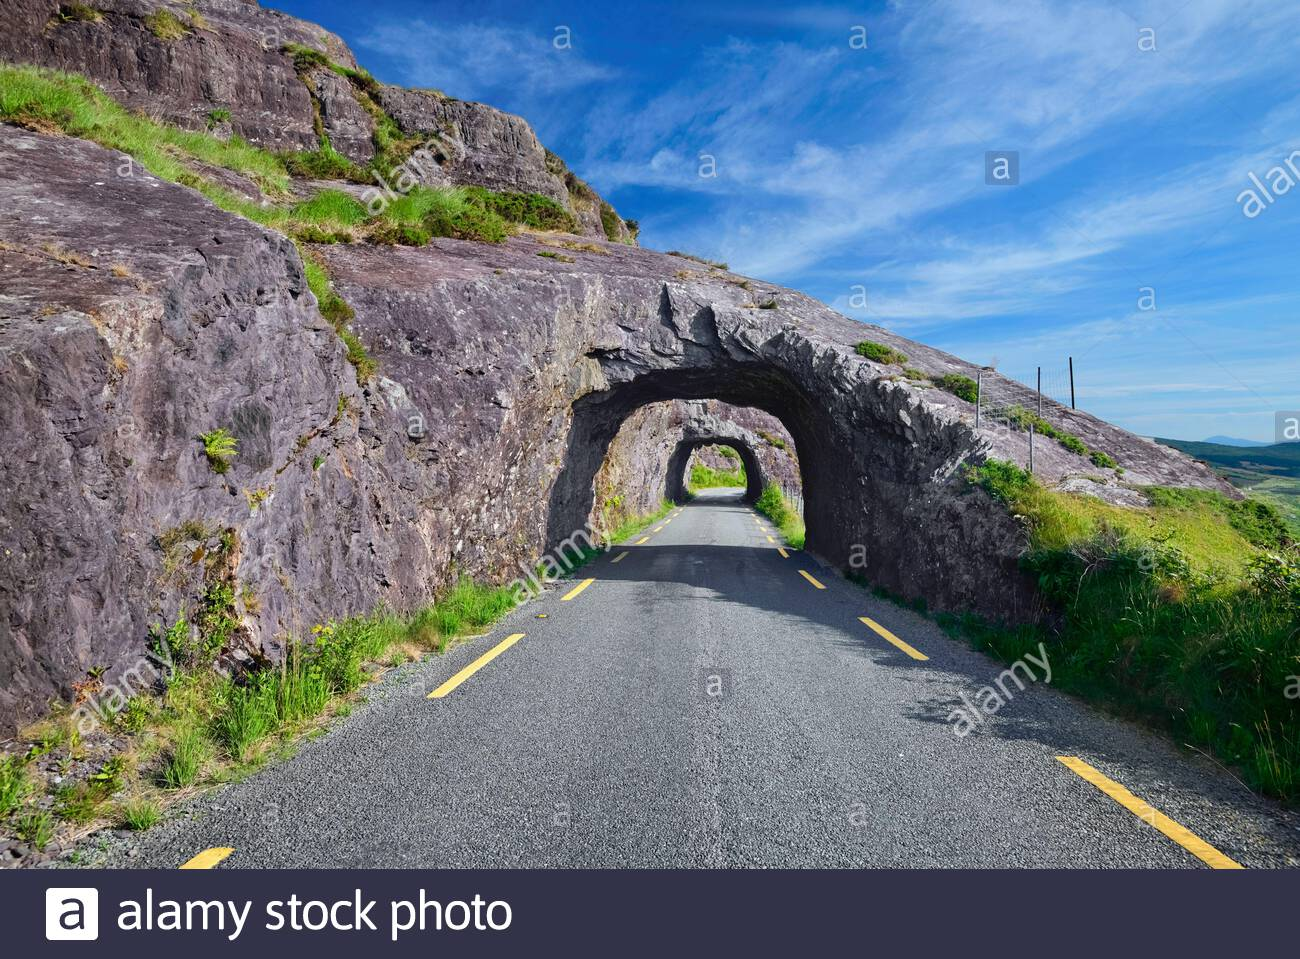bridge: (552, 269, 852, 576)
